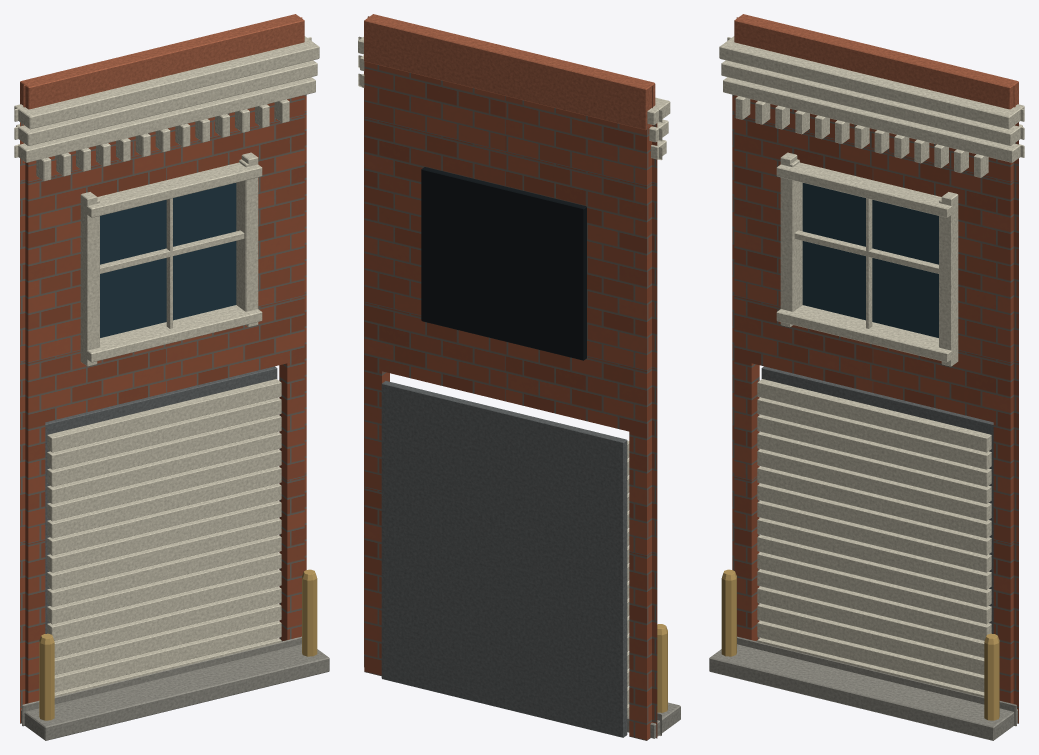
The model's file is WHSE15_lod1.glb.
3 views of the same model, side by side, from view 1: azimuth 30°, elevation 25°; view 2: azimuth 150°, elevation 25°; view 3: azimuth 330°, elevation 25° (orthographic). The views are drawn at different scales.
Visible parts, largest first — view 1: WHSE15_FRONT_LOD1; view 2: WHSE15_FRONT_LOD1; view 3: WHSE15_FRONT_LOD1.
Part boxes in pixels (<box>): WHSE15_FRONT_LOD1: <box>14,14,329,740</box>; WHSE15_FRONT_LOD1: <box>358,14,680,740</box>; WHSE15_FRONT_LOD1: <box>709,14,1024,740</box>.
Size of the model in its own units: 3.44 by 7.05 by 0.65.
8 materials, 5 textured.
